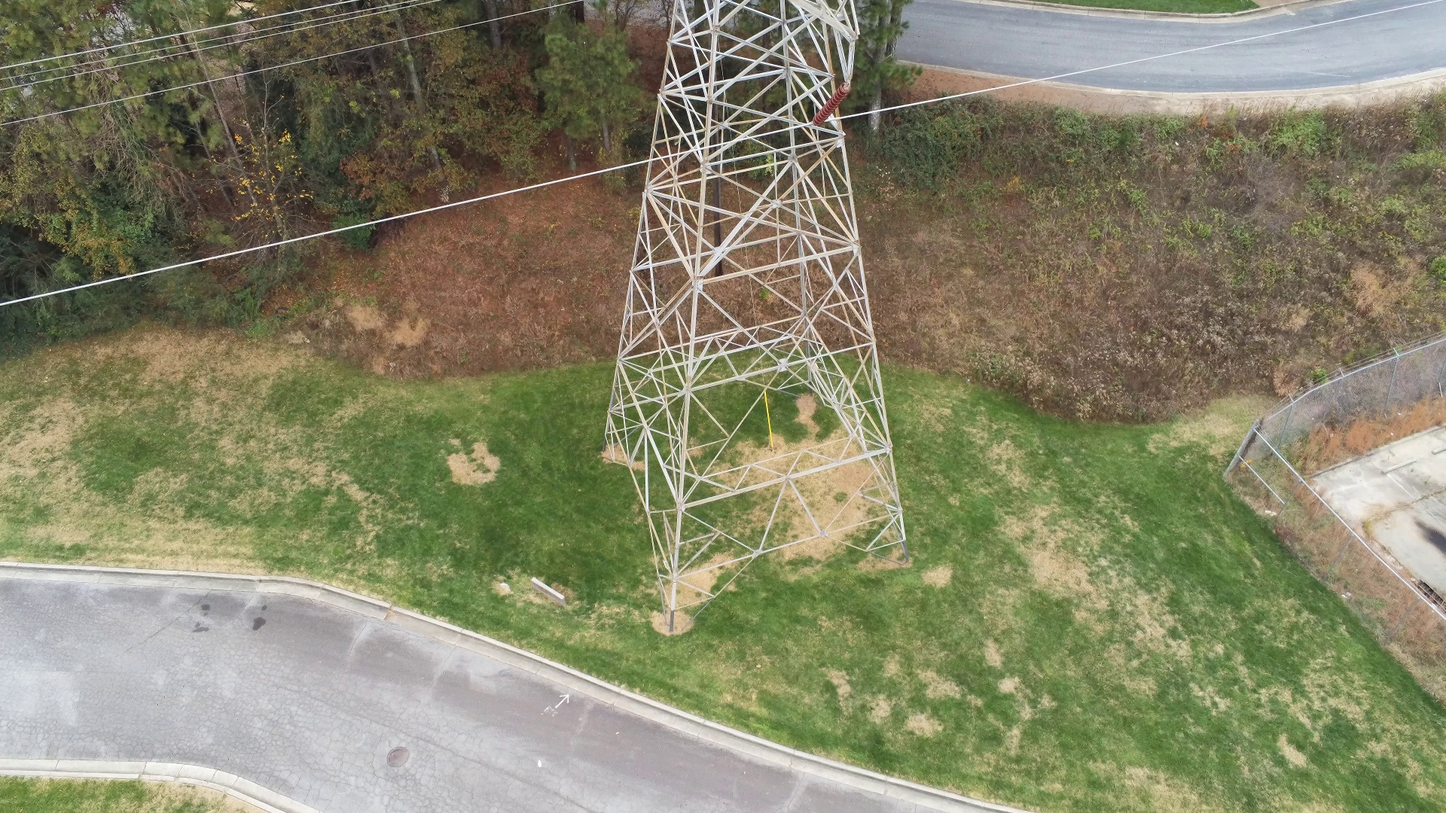insulator: (811, 81, 853, 127)
